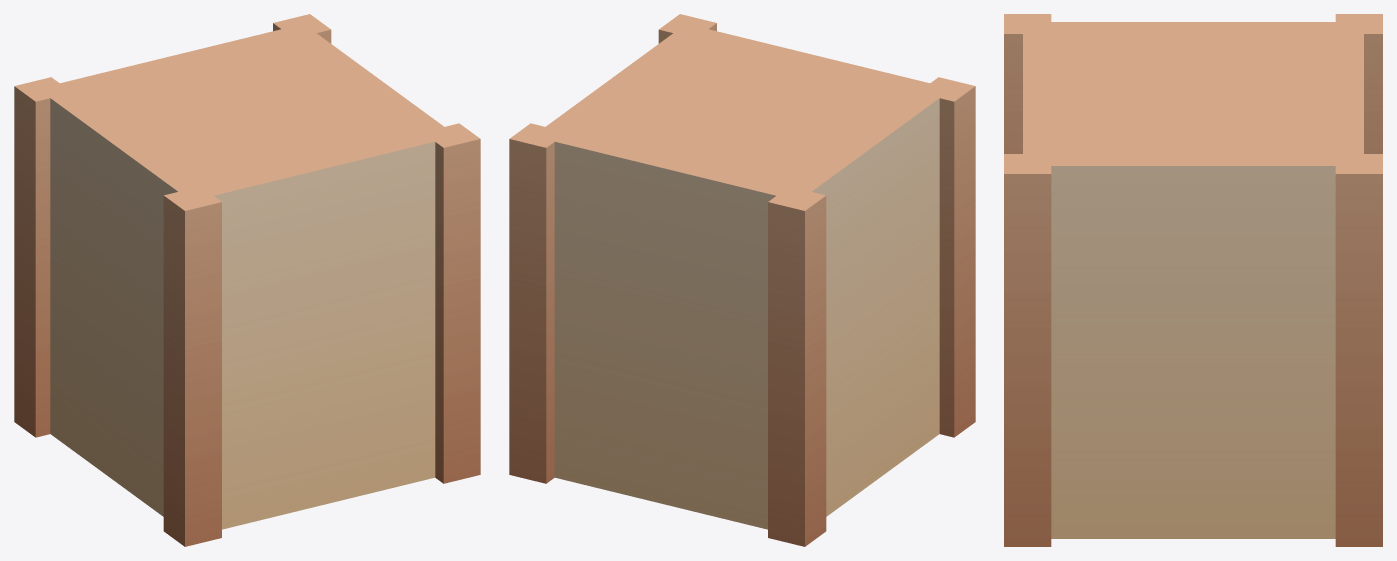
Rendered from tower-square-mid.obj.
3 views of the same model, side by side, from view 1: azimuth 30°, elevation 25°; view 2: azimuth 150°, elevation 25°; view 3: azimuth 270°, elevation 25° (orthographic). The views are drawn at different scales.
Parts seen in each view (by area): view 1: tower-square-mid; view 2: tower-square-mid; view 3: tower-square-mid.
Boxes of the visible parts, x1,y1,x2,y2 form: tower-square-mid: (14, 14, 480, 546); tower-square-mid: (509, 14, 975, 546); tower-square-mid: (1004, 14, 1382, 546).
Size of the model in its own units: 0.93 by 1.01 by 0.93.
Materials: 1 (1 with a texture image).
